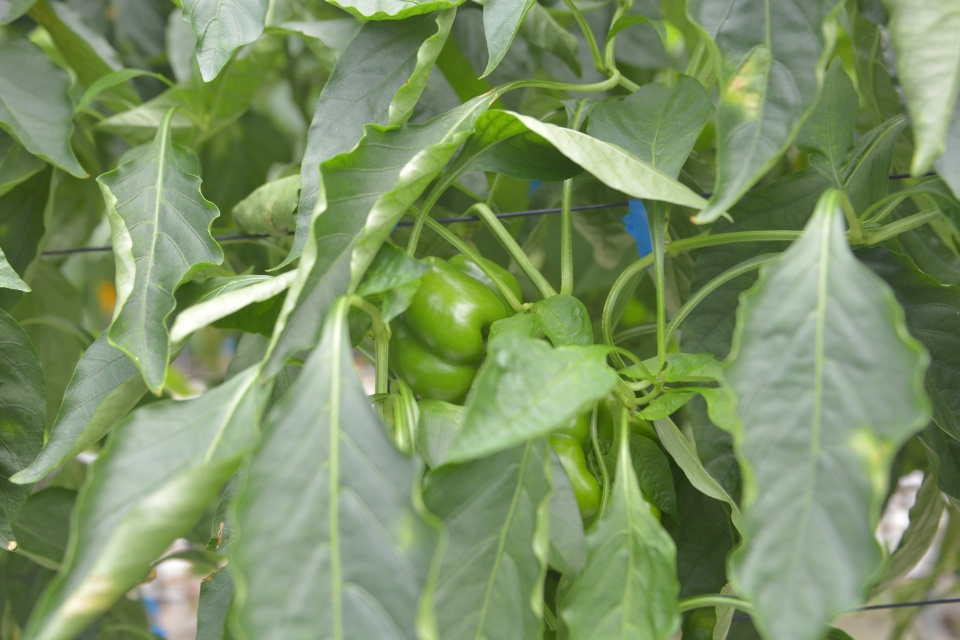fruit: (386, 248, 524, 406), (545, 395, 664, 535)
